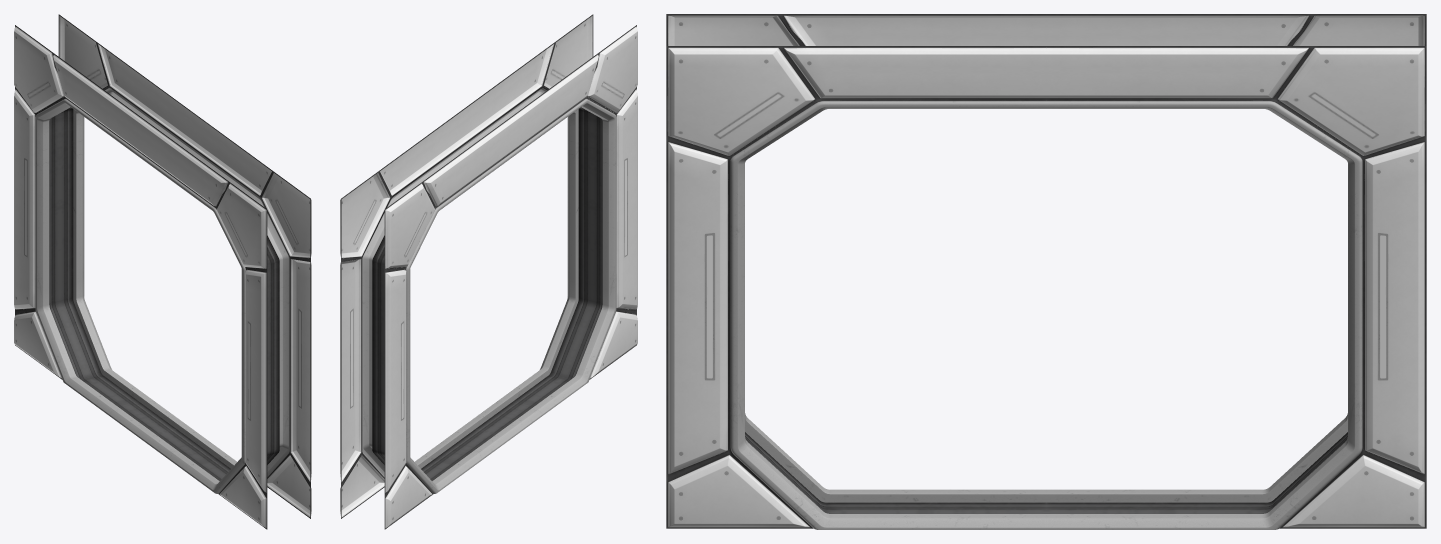
The model's file is SM_MGate01-500x350-1_GateFrame.FBX.
3 views of the same model, side by side, from view 1: azimuth 30°, elevation 25°; view 2: azimuth 150°, elevation 25°; view 3: azimuth 270°, elevation 25° (orthographic). The views are drawn at different scales.
Visible parts, largest first — view 1: SM_MGate01-500x350-1_GateFrame; view 2: SM_MGate01-500x350-1_GateFrame; view 3: SM_MGate01-500x350-1_GateFrame.
Part boxes in pixels (bbox=[...]): SM_MGate01-500x350-1_GateFrame: bbox=[14, 14, 311, 529]; SM_MGate01-500x350-1_GateFrame: bbox=[340, 14, 637, 529]; SM_MGate01-500x350-1_GateFrame: bbox=[666, 14, 1426, 529].
Size of what is drawn, in the model's own units: 58 by 500 by 350.
